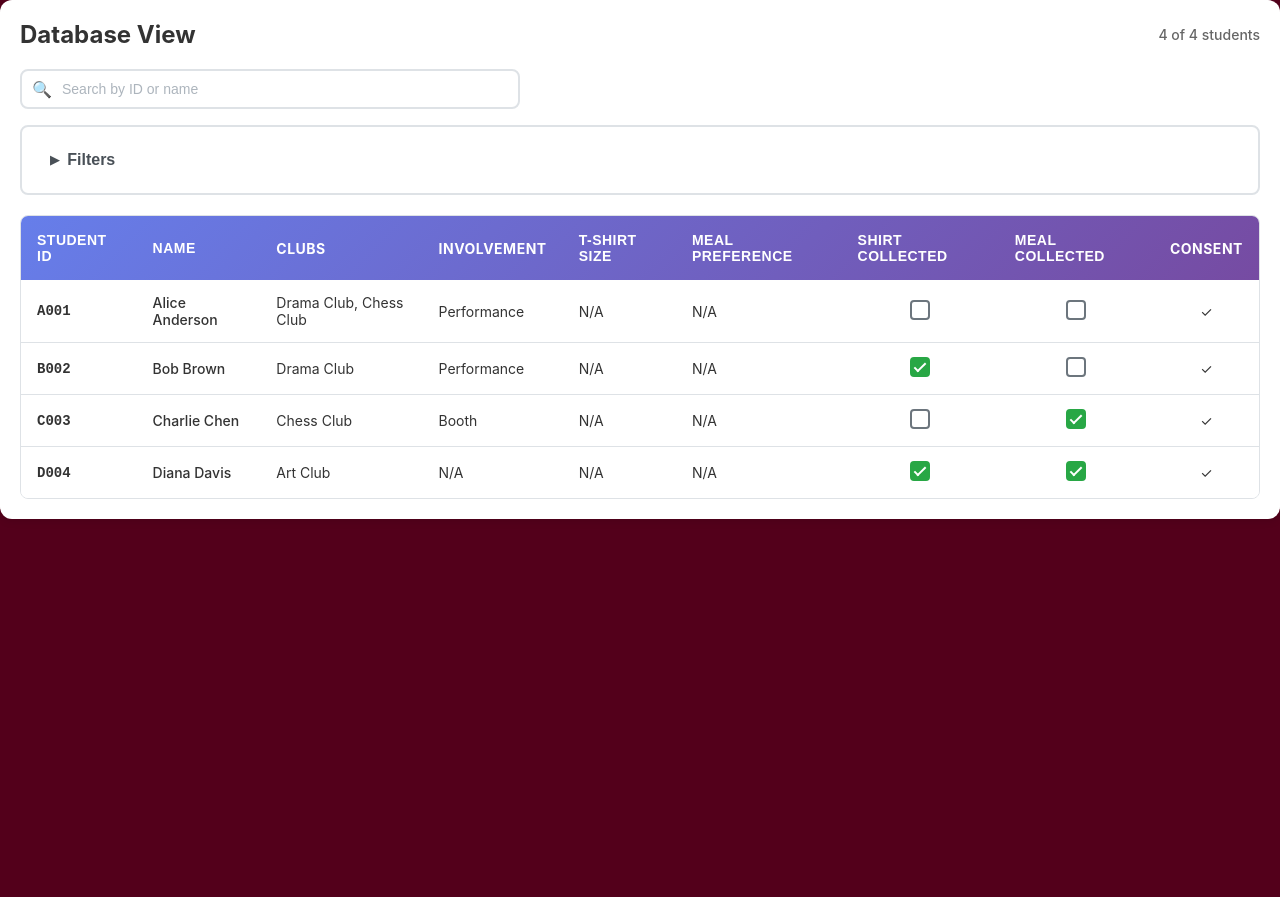
Test case: Integration: Complete User Workflow › should clear all filters and maintain sort
This screenshot has width=1280, height=897.
Check: the text "Alice Anderson" is shown, box x1=137 y1=280 x2=260 y2=342
Note: Apply filters
Click the button with aria-label "expand filters": (83, 160) x1=38 y1=143 x2=127 y2=177
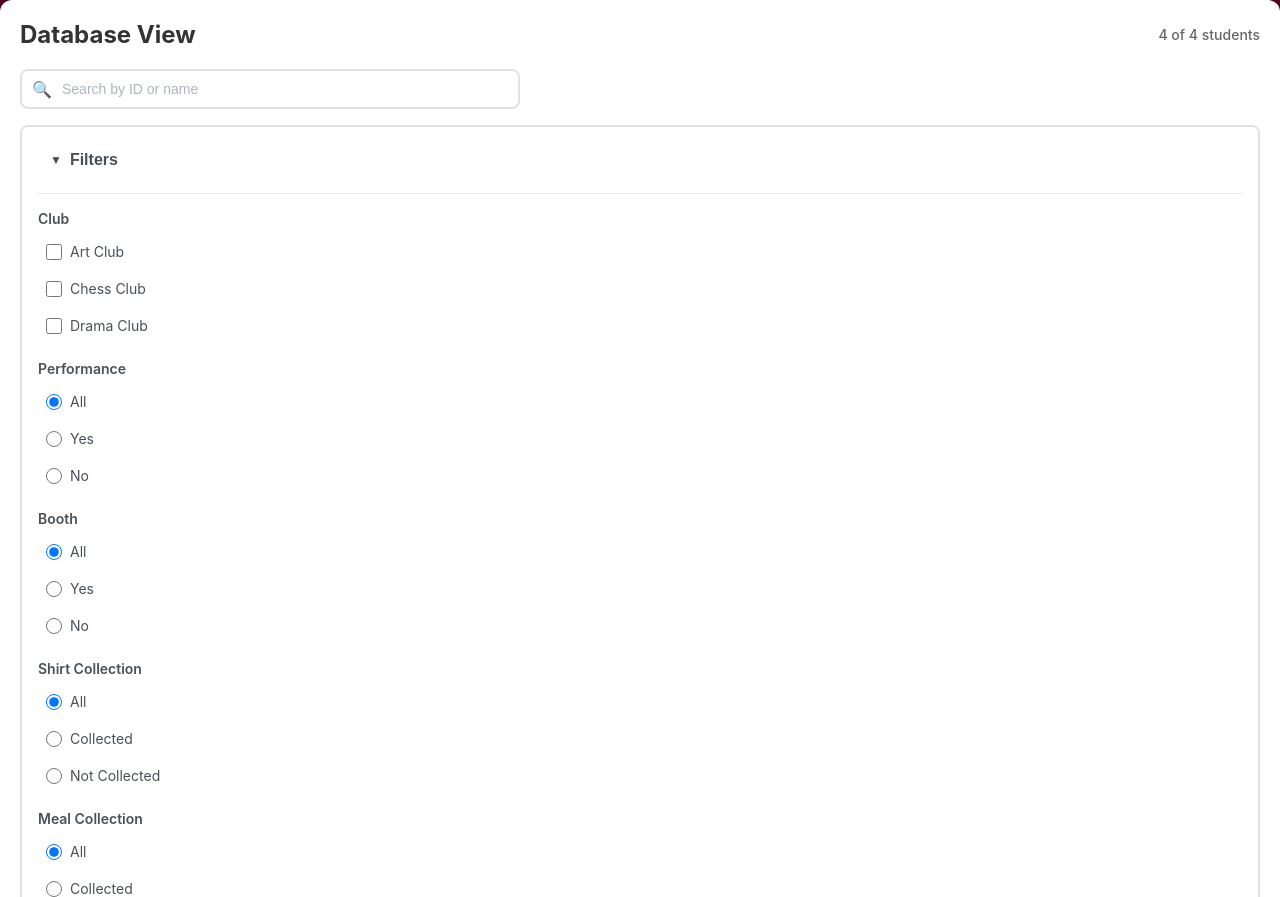
Check: the checkbox named "Filter by Drama Club" is shown
Click the checkbox named "Filter by Drama Club": (54, 326) x1=46 y1=318 x2=62 y2=334
(page scrolled)
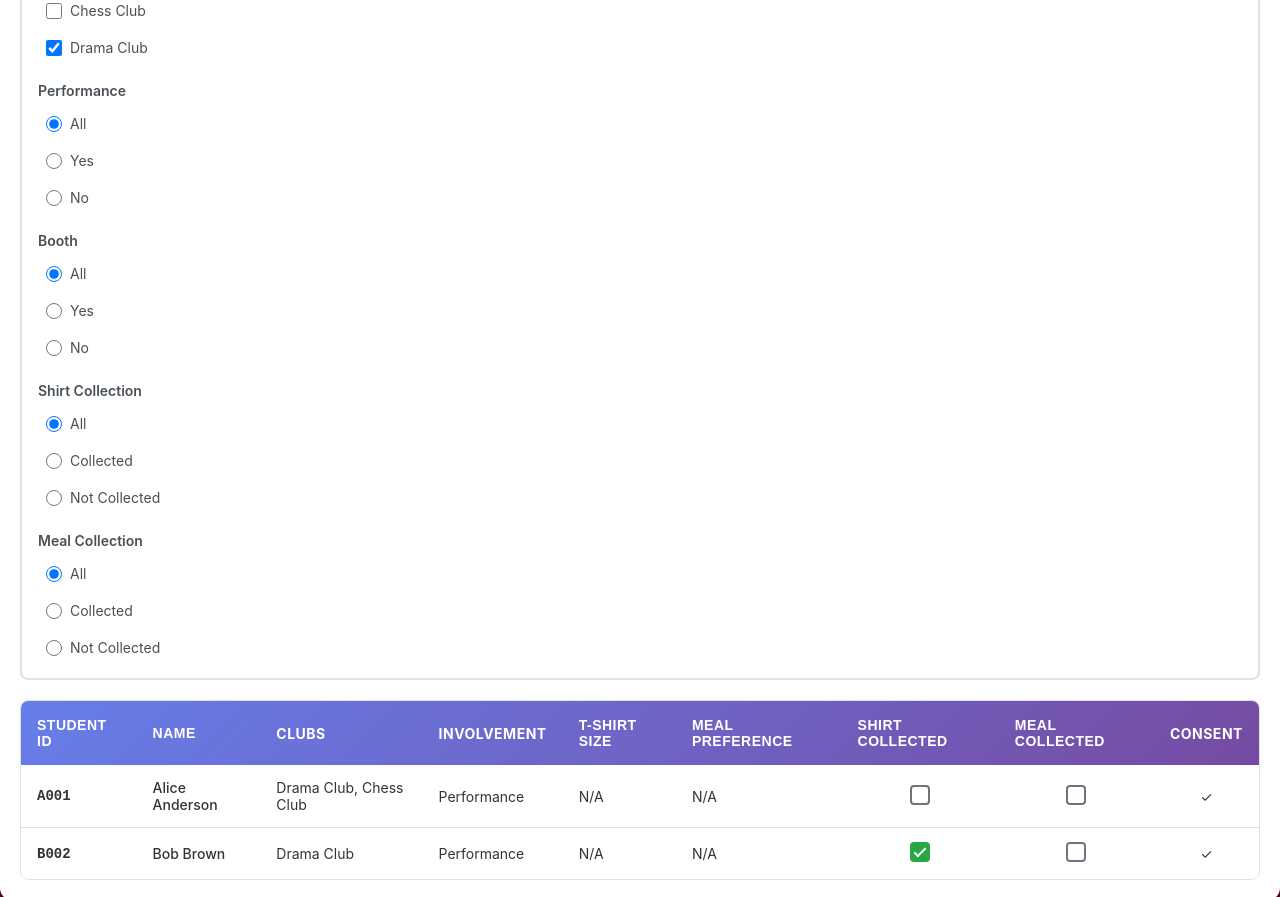
Note: Apply sort
Click the button with aria-label "sort by name": (198, 733) x1=137 y1=709 x2=260 y2=757
(page scrolled)
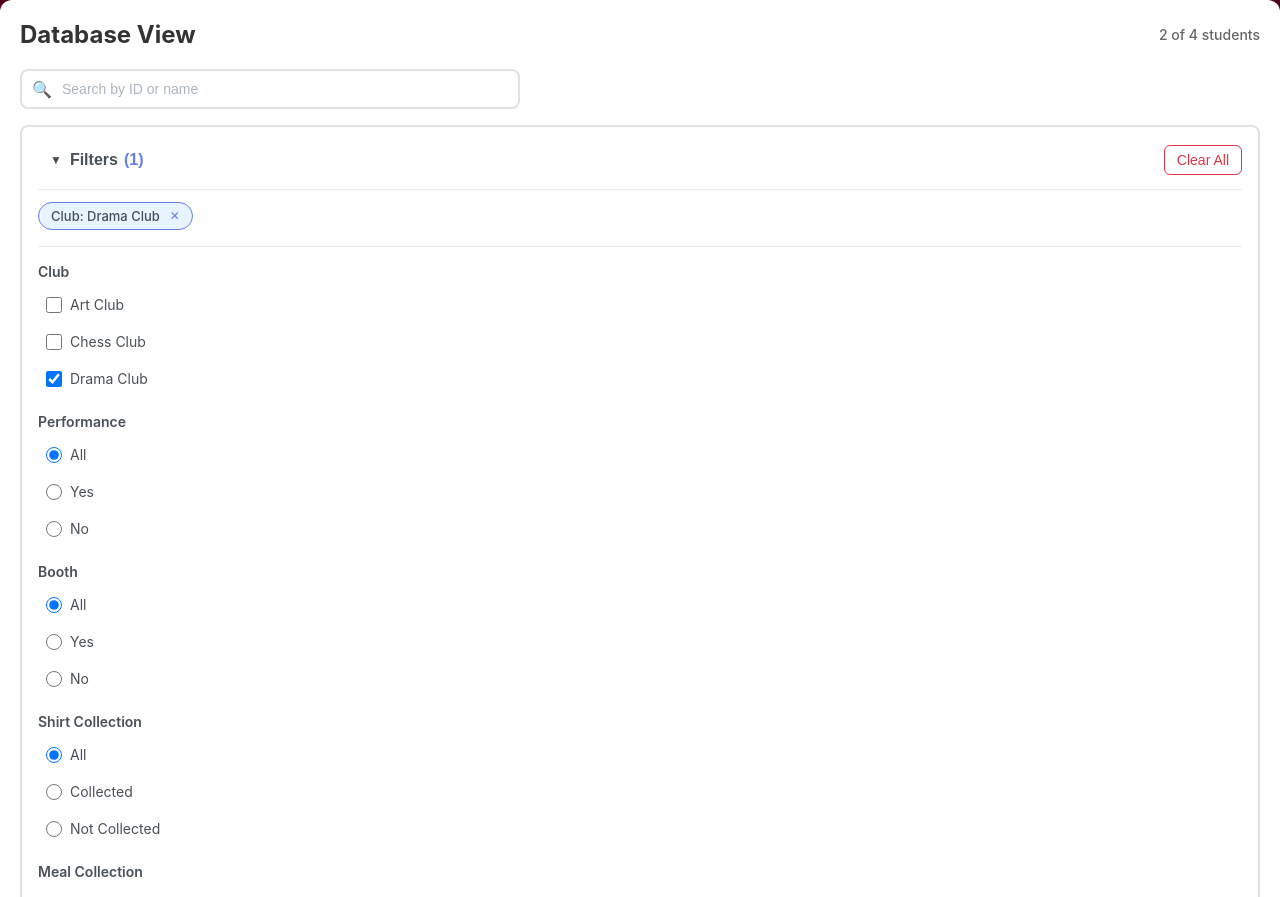
Note: Clear filters
Click the button "Clear All": (1203, 160) x1=1164 y1=145 x2=1242 y2=175
(page scrolled)
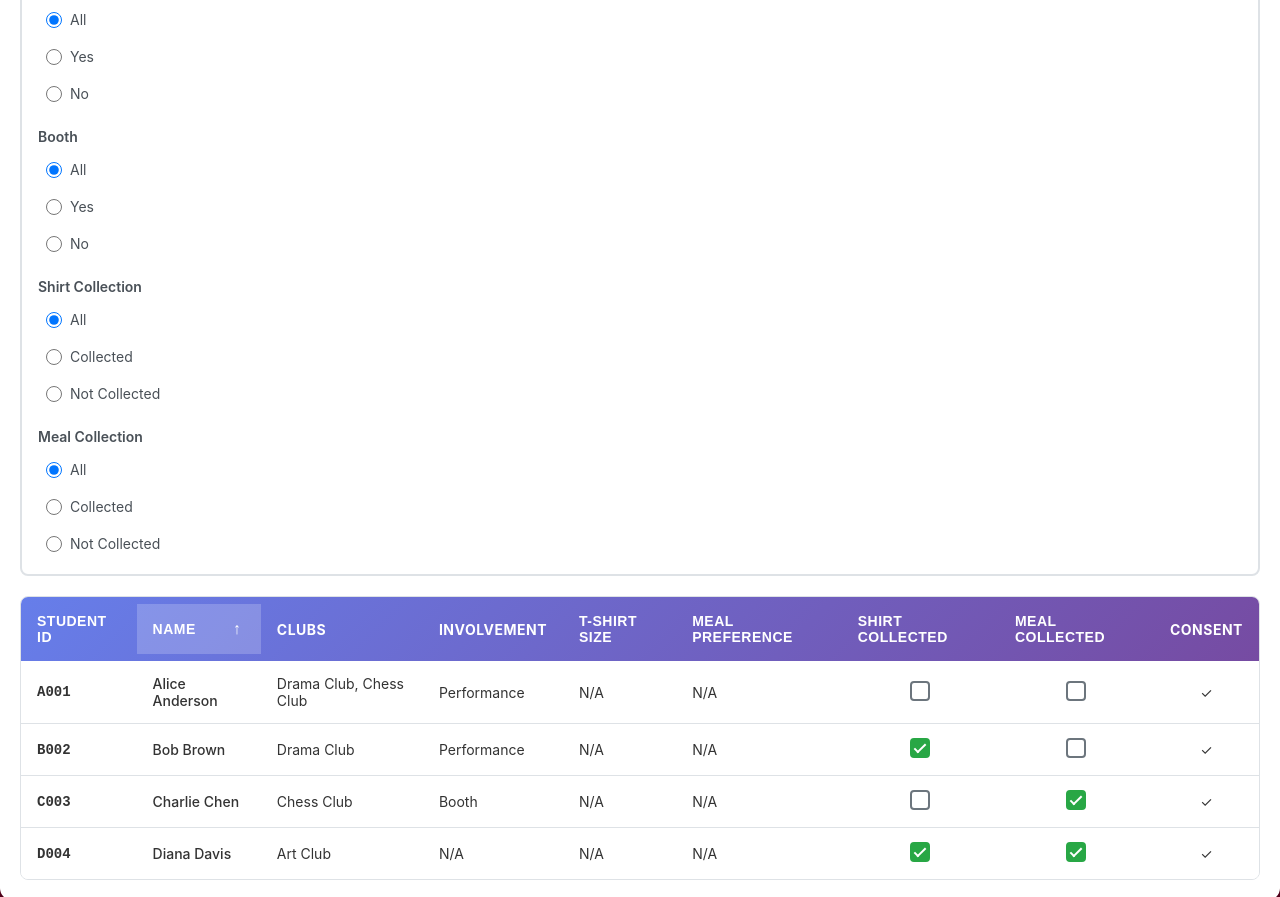
Check: the text "Alice Anderson" is shown, box x1=136 y1=661 x2=261 y2=724
Check: the text "Charlie Chen" is shown, box x1=136 y1=776 x2=261 y2=828
Check: the text "Diana Davis" is shown, box x1=136 y1=828 x2=261 y2=879
